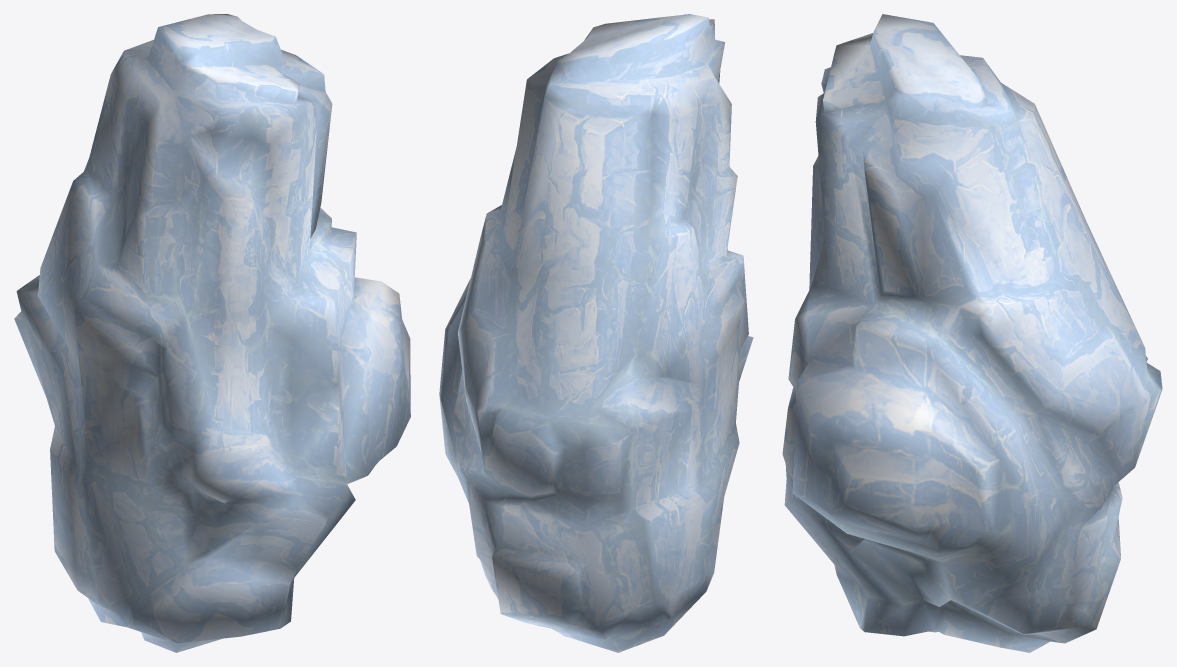
The model's file is bel_env_spire_04.glb.
The picture shows the model from 3 angles, left to right: view 1: azimuth 30°, elevation 25°; view 2: azimuth 150°, elevation 25°; view 3: azimuth 270°, elevation 25°; orthographic projection. The views are drawn at different scales.
Parts seen in each view (by area): view 1: bel_env_spire_04; view 2: bel_env_spire_04; view 3: bel_env_spire_04.
Boxes of the visible parts, <box> form: bel_env_spire_04: <box>14,14,410,652</box>; bel_env_spire_04: <box>439,14,753,652</box>; bel_env_spire_04: <box>782,14,1162,652</box>.
Size of the model in its own units: 4.95 by 9.73 by 5.56.
1 material, 1 textured.
